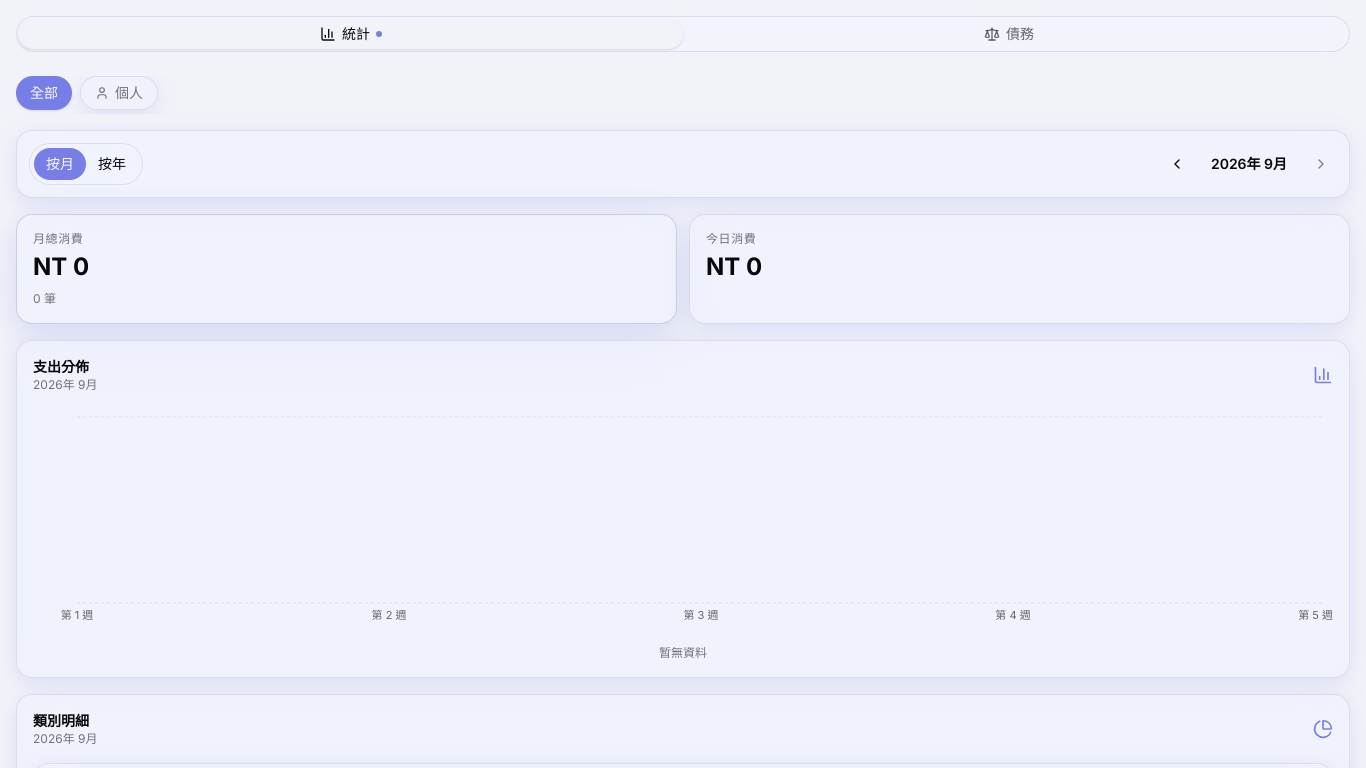
Test: OverviewPage › debt panel shows no-groups placeholder
The width and height of the screenshot is (1366, 768).
Press the mouse on the tab "債務" at (1015, 34), box left=683, top=20, right=1347, bottom=48
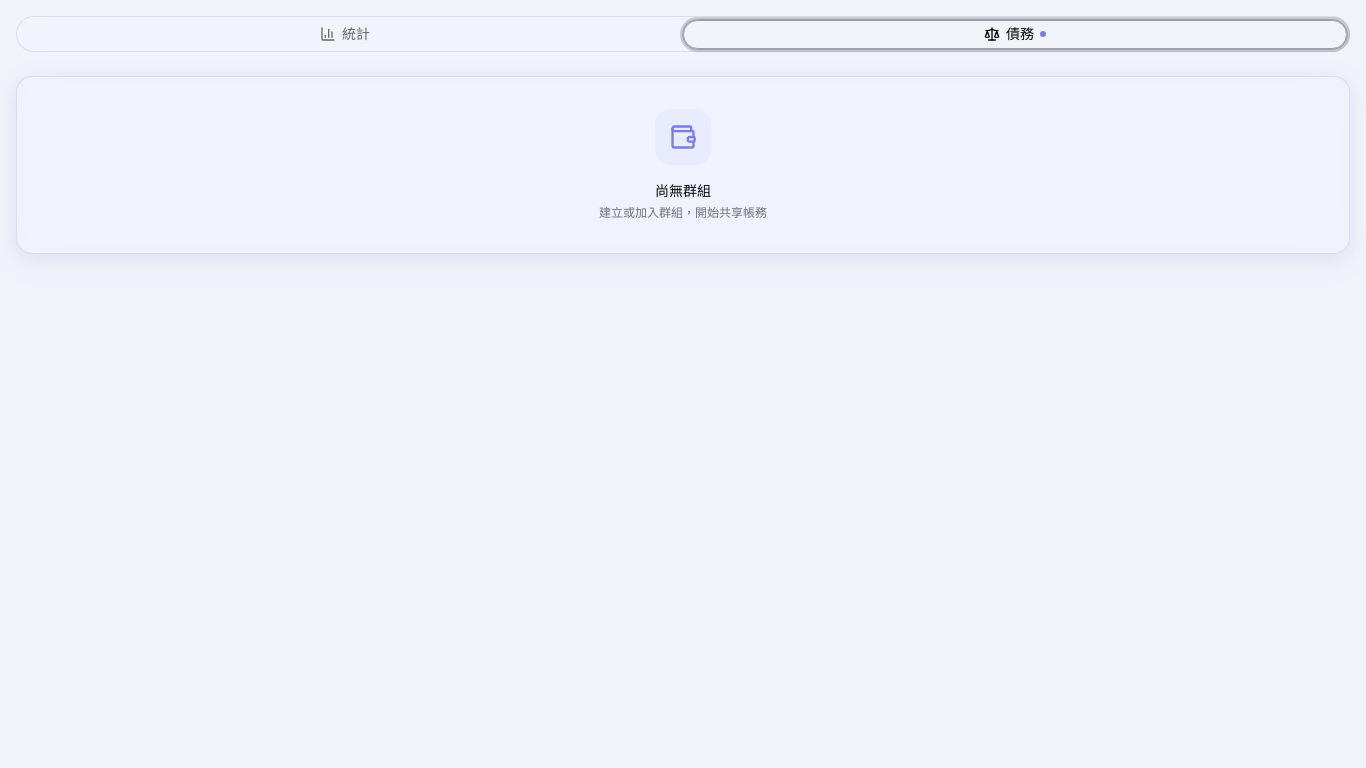
Expected: the text "尚無群組" is shown, left=655, top=182, right=711, bottom=199
